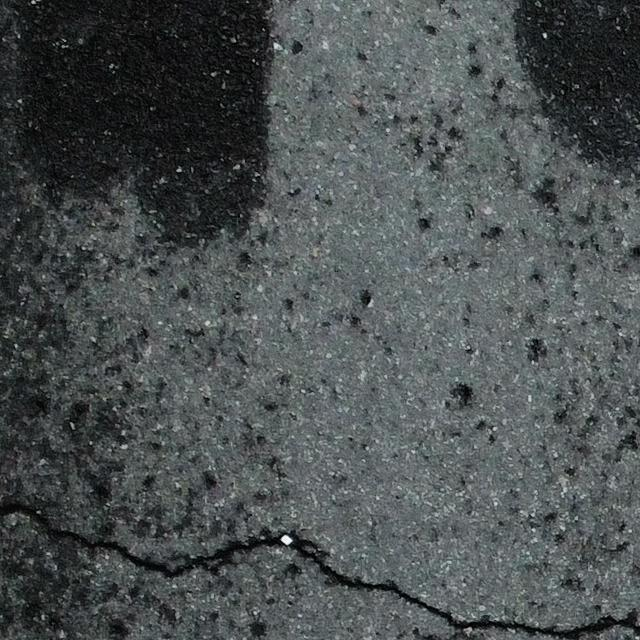TransverseCrack: (1, 503, 640, 640)
